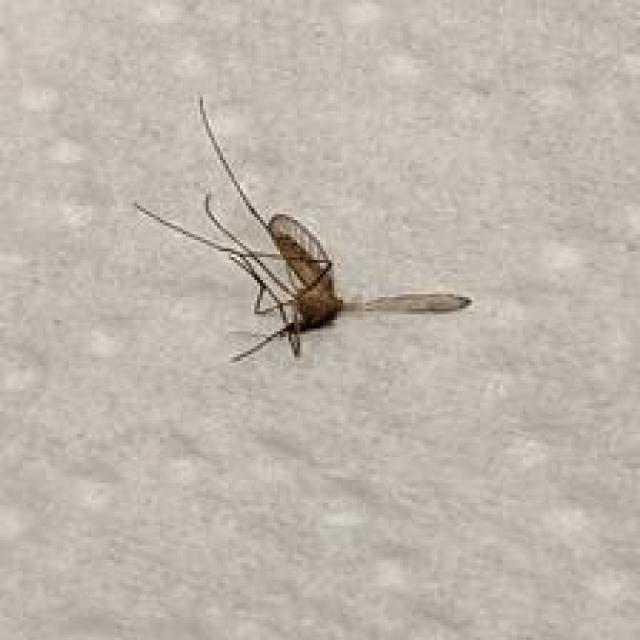Culex: (133, 93, 473, 364)
